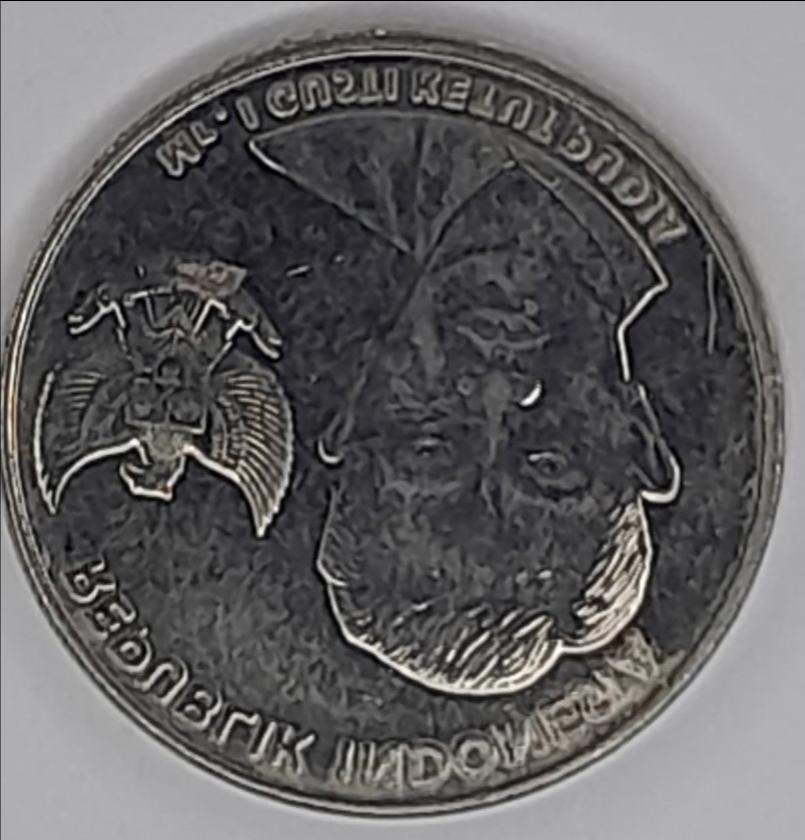coin_1000_e2016: (14, 17, 794, 840)
